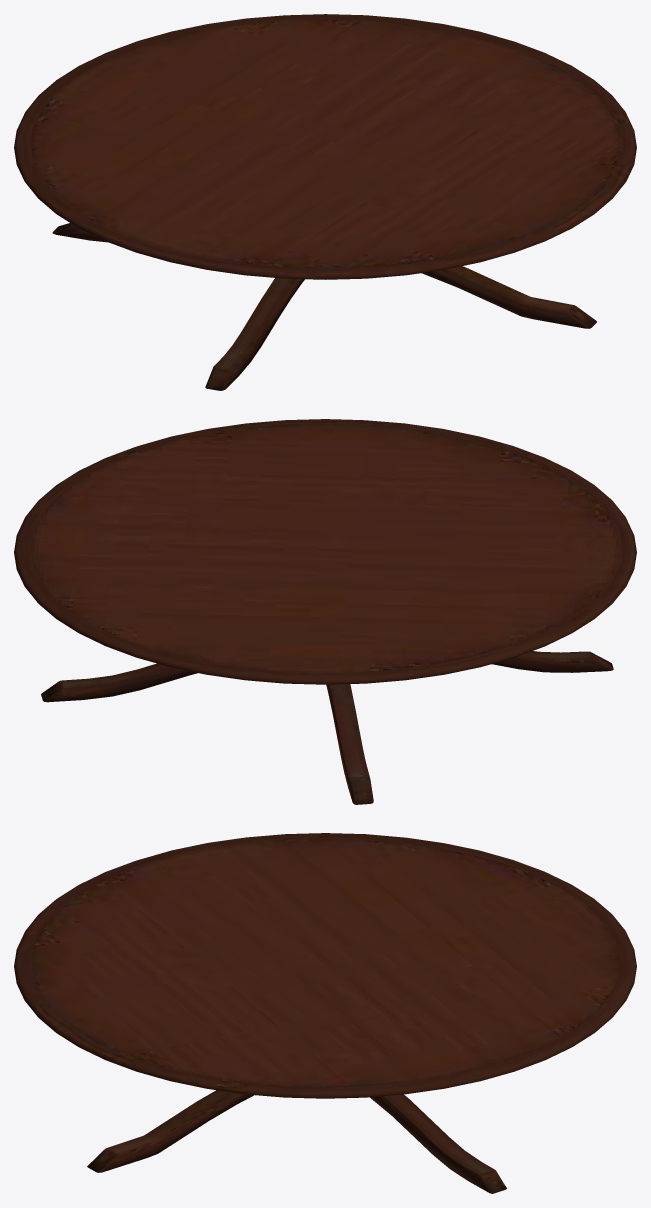
Rendered from round_table.glb.
The picture shows the model from 3 angles, top to bottom: view 1: azimuth 30°, elevation 25°; view 2: azimuth 150°, elevation 25°; view 3: azimuth 270°, elevation 25°; orthographic projection.
Parts seen in each view (by area): view 1: round_wooden_table_01; view 2: round_wooden_table_01; view 3: round_wooden_table_01.
Boxes of the visible parts, left/top/right/bottom form: round_wooden_table_01: left=14, top=14, right=636, bottom=390; round_wooden_table_01: left=14, top=419, right=636, bottom=804; round_wooden_table_01: left=14, top=833, right=636, bottom=1193.
Size of the model in its own units: 4.8 by 1.14 by 4.8.
Materials: 1 (1 with a texture image).
